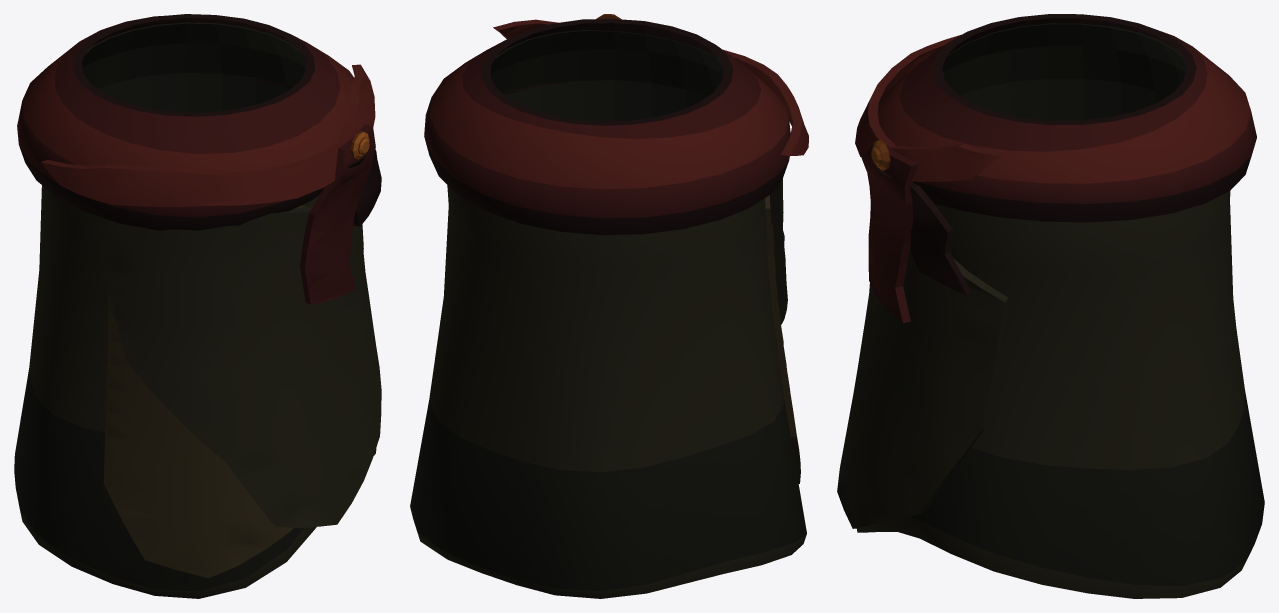
Rendered from TravellersWrap.fbx.
3 renders of one model, left to right at view 1: azimuth 30°, elevation 25°; view 2: azimuth 150°, elevation 25°; view 3: azimuth 270°, elevation 25°, orthographic. The views are drawn at different scales.
Parts seen in each view (by area): view 1: TravellersWrap_Shell; view 2: TravellersWrap_Shell; view 3: TravellersWrap_Shell.
Part boxes in pixels (<box>): TravellersWrap_Shell: <box>14,14,381,598</box>; TravellersWrap_Shell: <box>410,14,808,598</box>; TravellersWrap_Shell: <box>837,14,1264,598</box>.
Bounding box in the file's own units: 0.34 × 0.4587 × 0.3593.
Materials: 2 (2 with a texture image).
